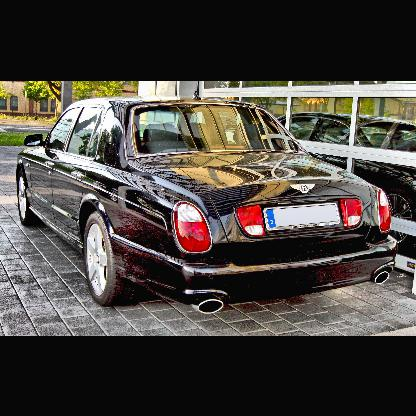Bentley Arnage Sedan 2009: (16, 97, 398, 316)
